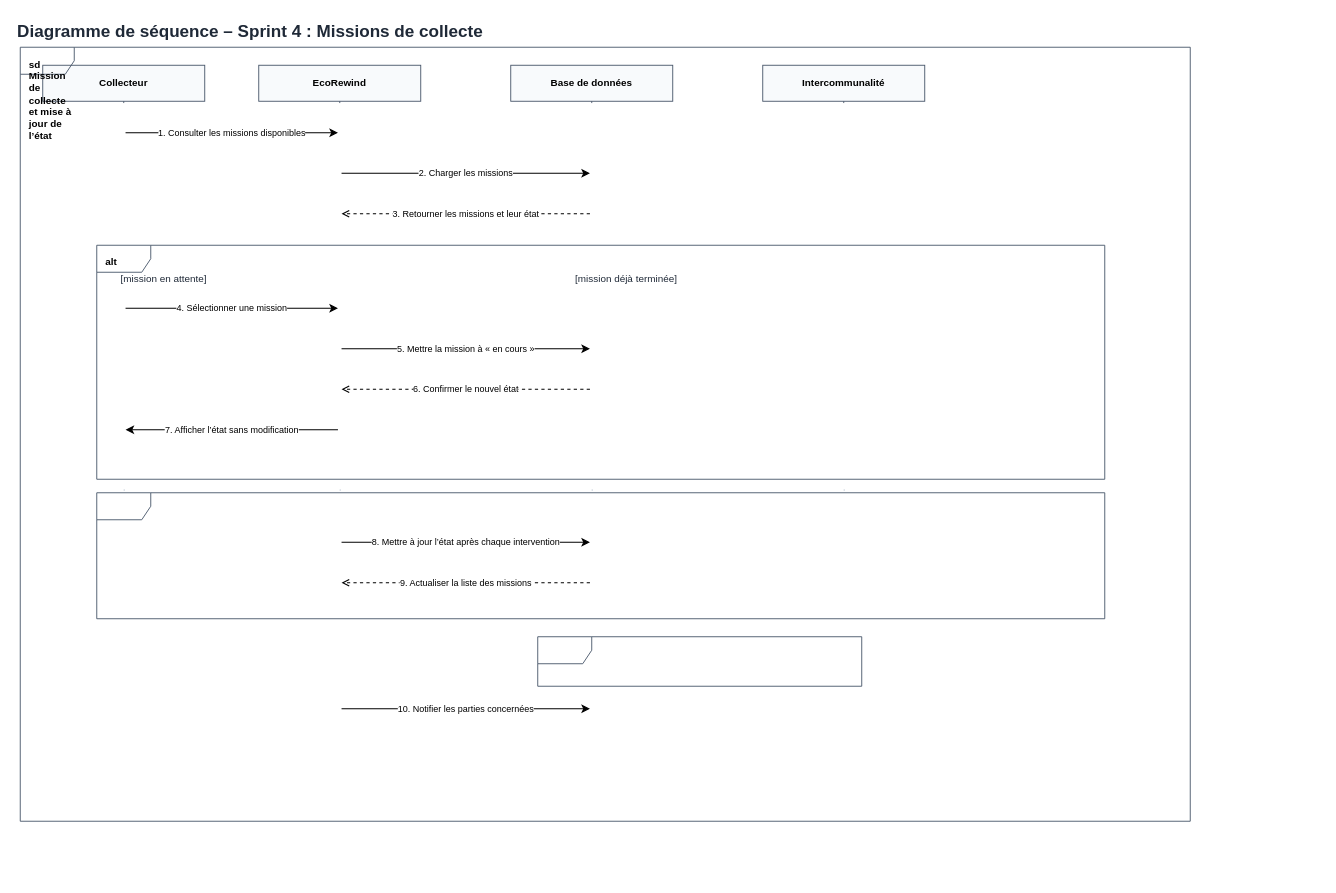
The diagram is 1336 pixels wide and 893 high, and some of its shapes have lost their labels. The centre of each missing label's shape, as x and y in pixels:
loop [pour chaque mission de la tournée]: (600,555)
ref Enregistrer l’opération de collecte: (699,661)
